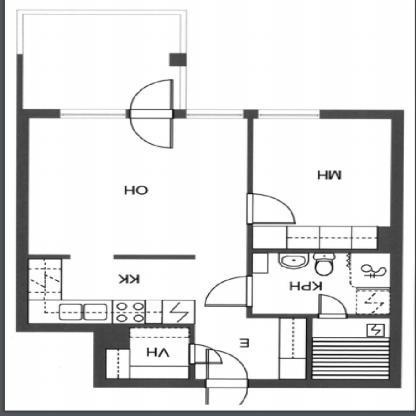door: (130, 74, 178, 152), (200, 349, 247, 405), (243, 190, 299, 225), (199, 274, 253, 309), (317, 294, 348, 320), (188, 342, 220, 362)
window: (252, 107, 320, 123), (188, 107, 247, 122), (57, 109, 127, 118)
zone: (29, 260, 305, 386), (29, 119, 247, 258), (251, 118, 397, 248), (24, 14, 176, 108), (252, 253, 387, 313), (314, 319, 387, 380)
